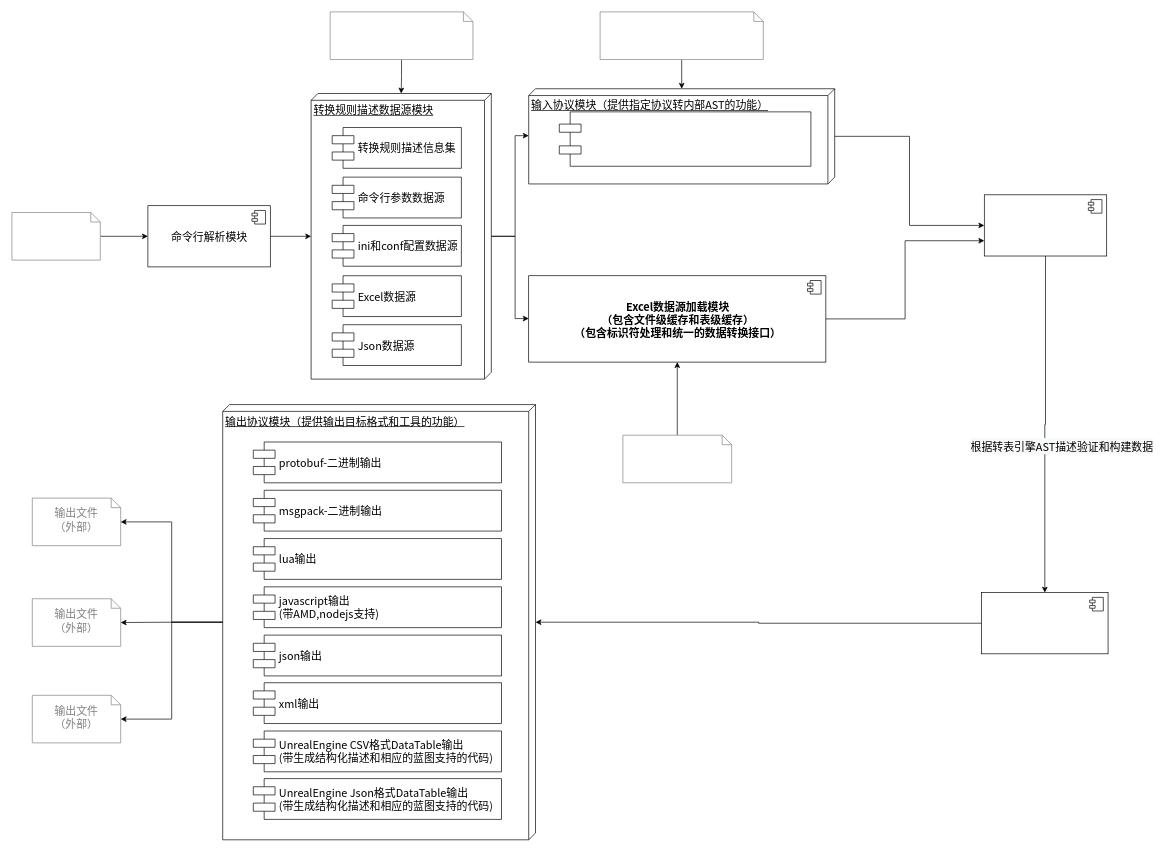
Some shapes in this 1165 by 863 pixel diagram are drawn without their labels. The shapes that lost their labels are listed below. From the top down, each one's centre as x and y in pixels, then its label:
pixel 401 35: 协议描述文件或其他来源 （外部）
pixel 681 35: 输入协议的描述文件 （比如：protobuf的pb文件） （外部）
pixel 685 138: protobuf输入协议 (带描述集的文件缓存,消息缓存,常量信息缓存) (protobut插件转内部转表引擎AST插件)
pixel 55 236: 命令行参数 （外部）
pixel 1045 225: 转表引擎AST描述
pixel 677 459: Excel数据源 （外部）
pixel 1044 623: 数据验证模块
